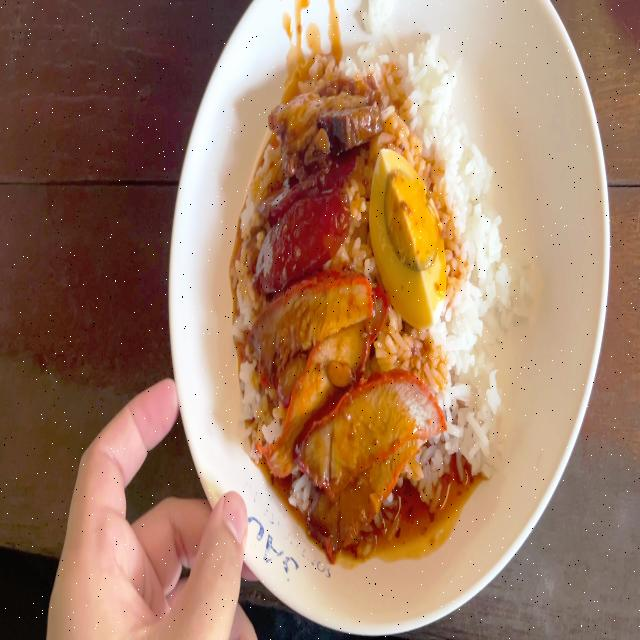boiled_egg: (374, 152, 446, 327)
chainese_sausage: (264, 159, 350, 267)
crispy_pork: (271, 90, 381, 152)
red_pork: (264, 286, 378, 482), (312, 370, 441, 534)
red_pork_and_crispy_pork: (256, 41, 498, 499)
rice: (445, 139, 501, 365), (382, 41, 461, 145), (441, 378, 502, 482)
